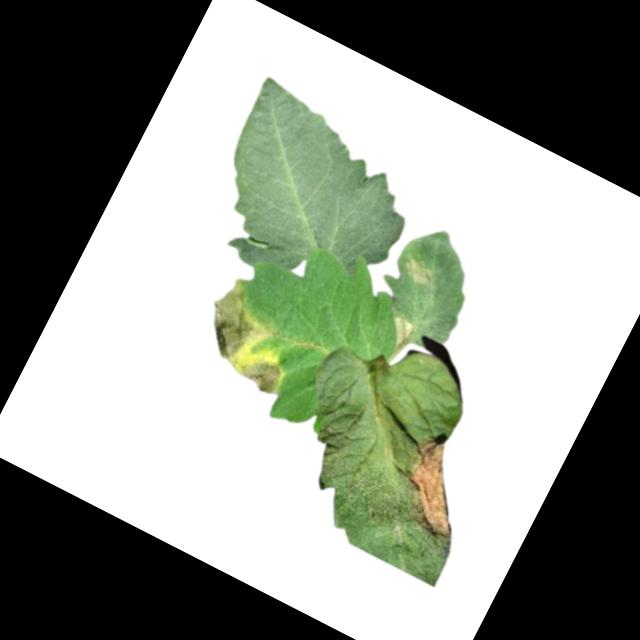Late_blight: (379, 428, 490, 548), (189, 271, 275, 368), (230, 344, 290, 398), (378, 315, 416, 358), (399, 254, 438, 290)
